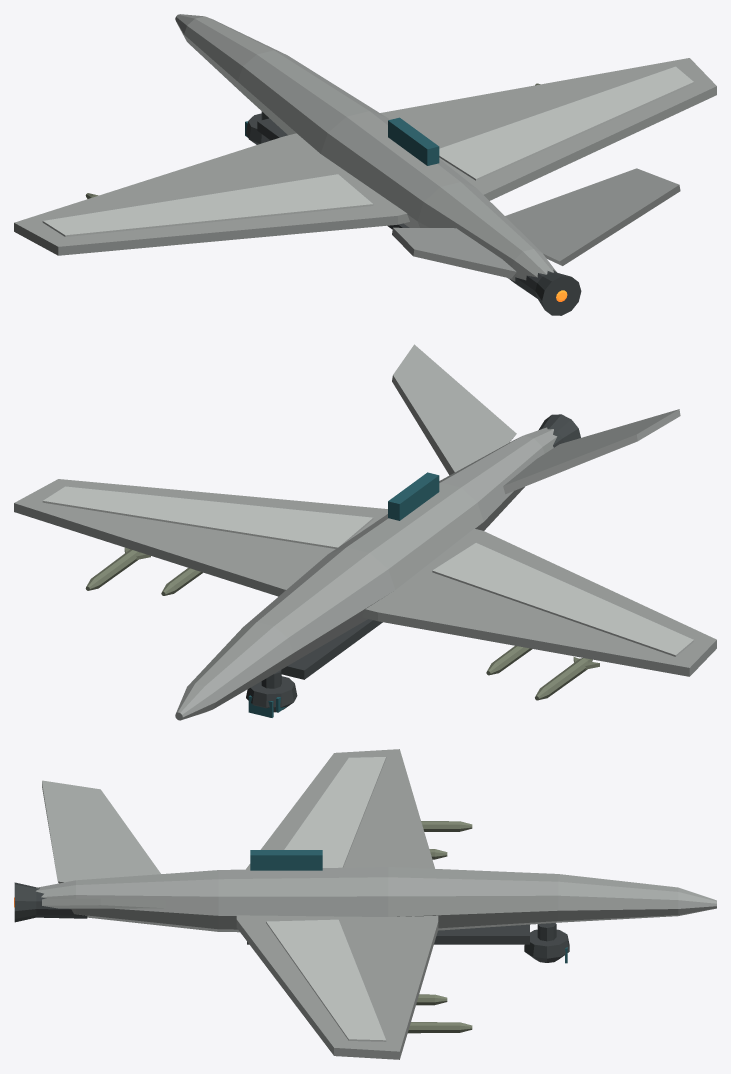
File: reaper-v1.glb
3 renders of one model, top to bottom at view 1: azimuth 30°, elevation 25°; view 2: azimuth 150°, elevation 25°; view 3: azimuth 270°, elevation 25°, orthographic. The views are drawn at different scales.
Parts seen in each view (by area): view 1: reaper-airframe; view 2: reaper-airframe; view 3: reaper-airframe.
Part boxes in pixels (<box>): reaper-airframe: <box>14,14,716,315</box>; reaper-airframe: <box>14,344,716,720</box>; reaper-airframe: <box>14,749,716,1059</box>.
Size of the model in its own units: 31.6 by 5.76 by 31.03.
